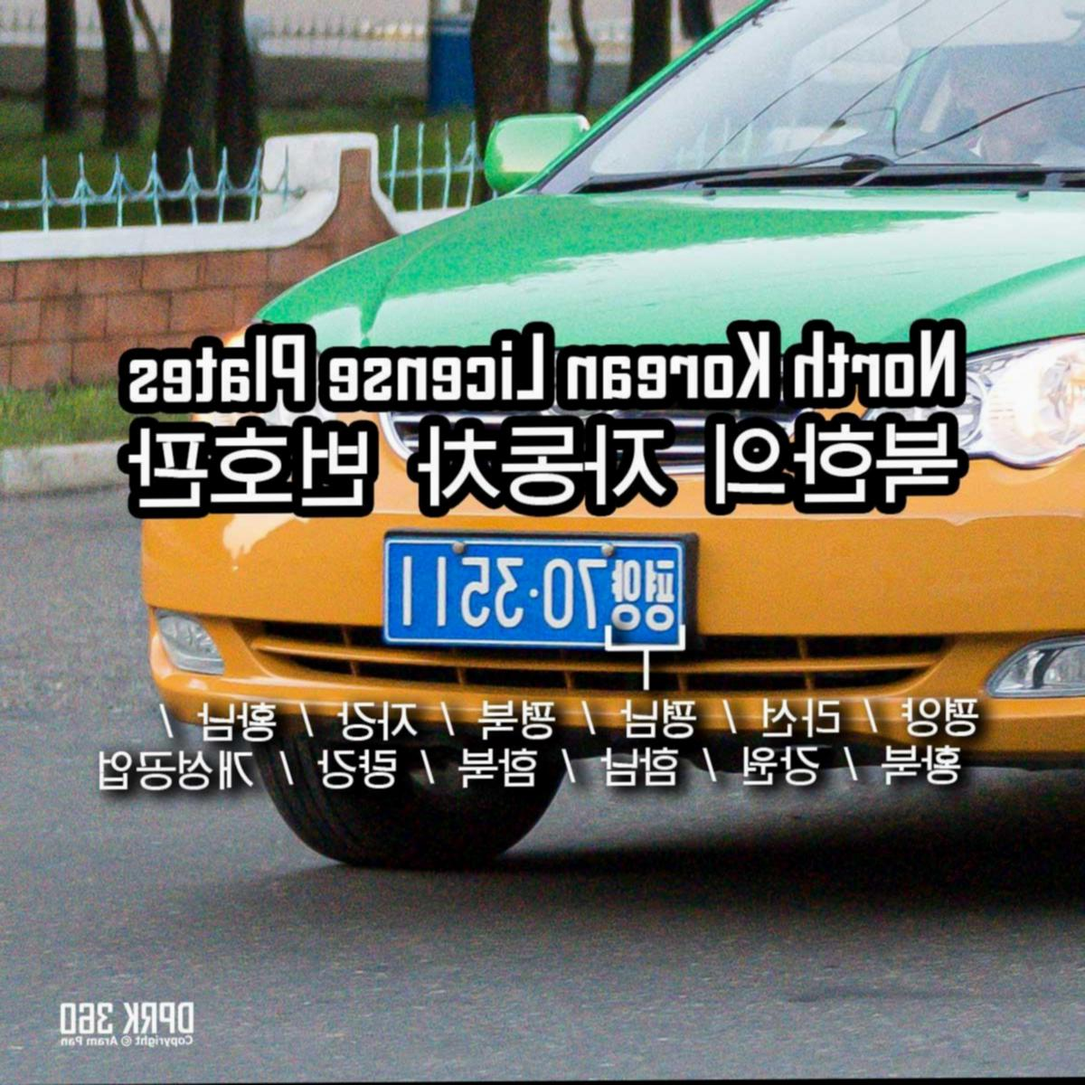License_Plate: (372, 524, 702, 659)
